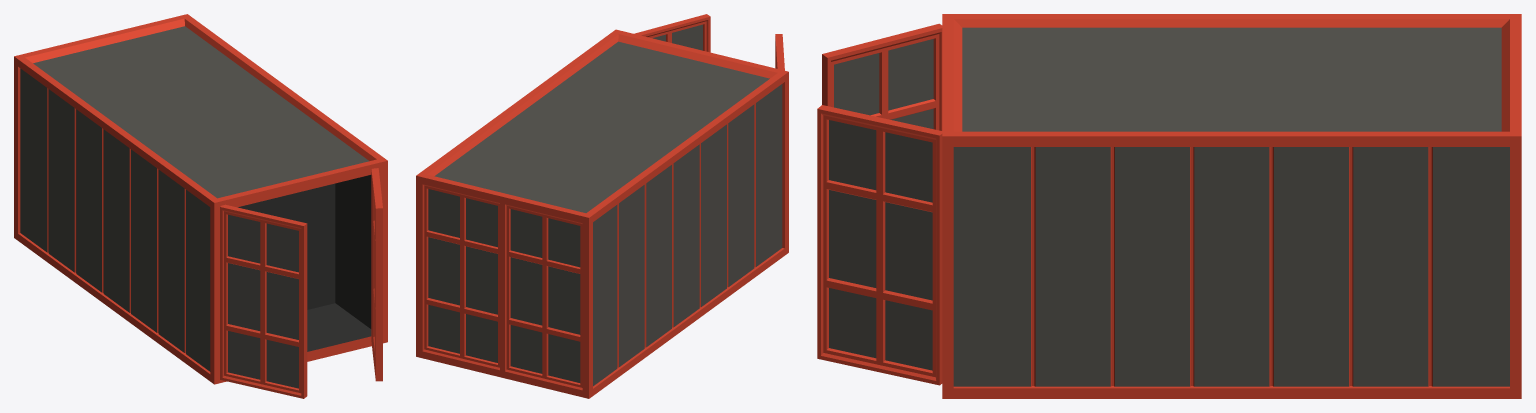
The model's file is SM_container_02.glb.
The picture shows the model from 3 angles, left to right: view 1: azimuth 30°, elevation 25°; view 2: azimuth 150°, elevation 25°; view 3: azimuth 270°, elevation 25°; orthographic projection. The views are drawn at different scales.
Visible parts, largest first — view 1: SM_container_02; view 2: SM_container_02; view 3: SM_container_02.
Boxes of the visible parts, x1,y1,x2,y2 form: SM_container_02: (14, 14, 387, 398); SM_container_02: (416, 14, 788, 398); SM_container_02: (817, 14, 1521, 398).
Bounding box in the file's own units: 2 × 2 × 4.86.
Materials: 1 (1 with a texture image).
